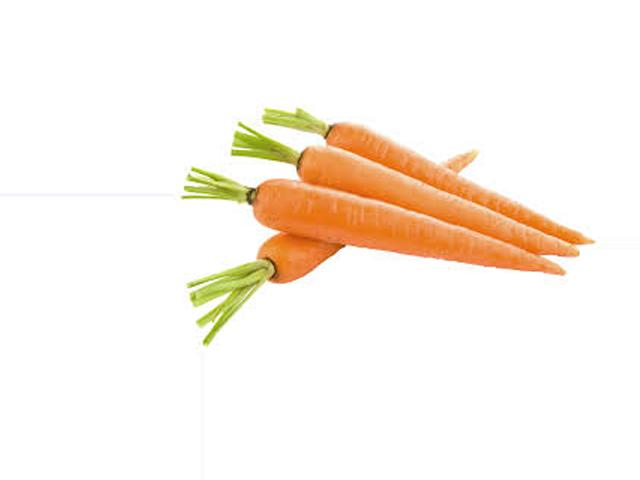carrot: (217, 214, 353, 316)
